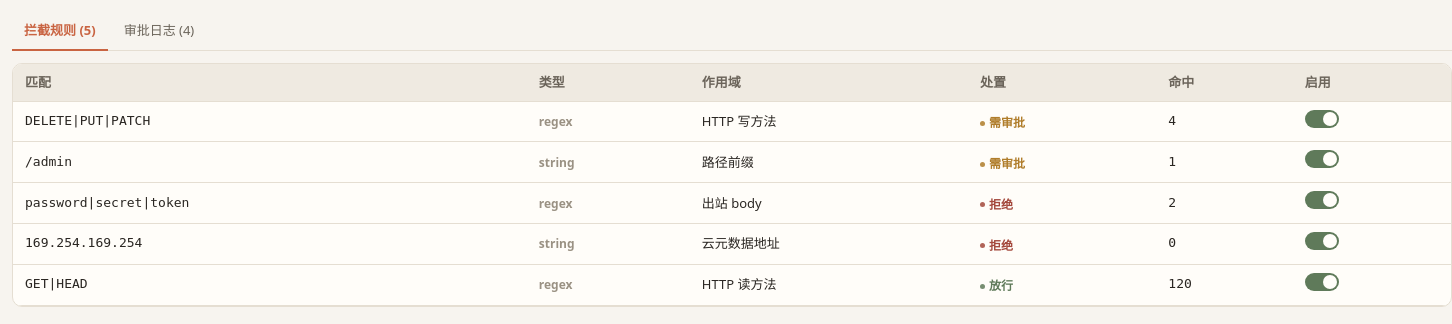
it: Guard（拦截规则 + 审批日志） › 渲染拦截规则表，开关切换翻转状态
expect the tab "拦截规则 (5)" is shown: met, box [12,12,108,51]
Step 1. Click the 1st switch → (1322, 119), box [1305,110,1339,128]
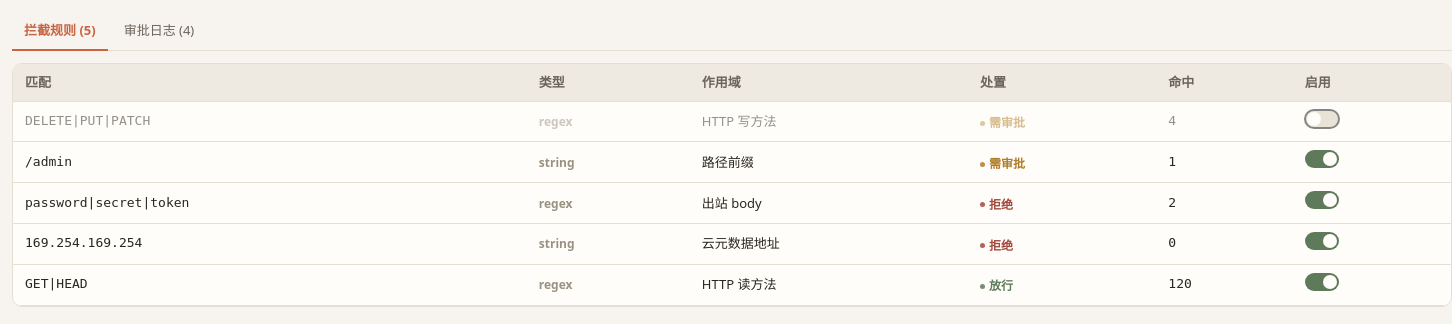
expect the 1st switch is not checked: met, box [1305,110,1339,128]
